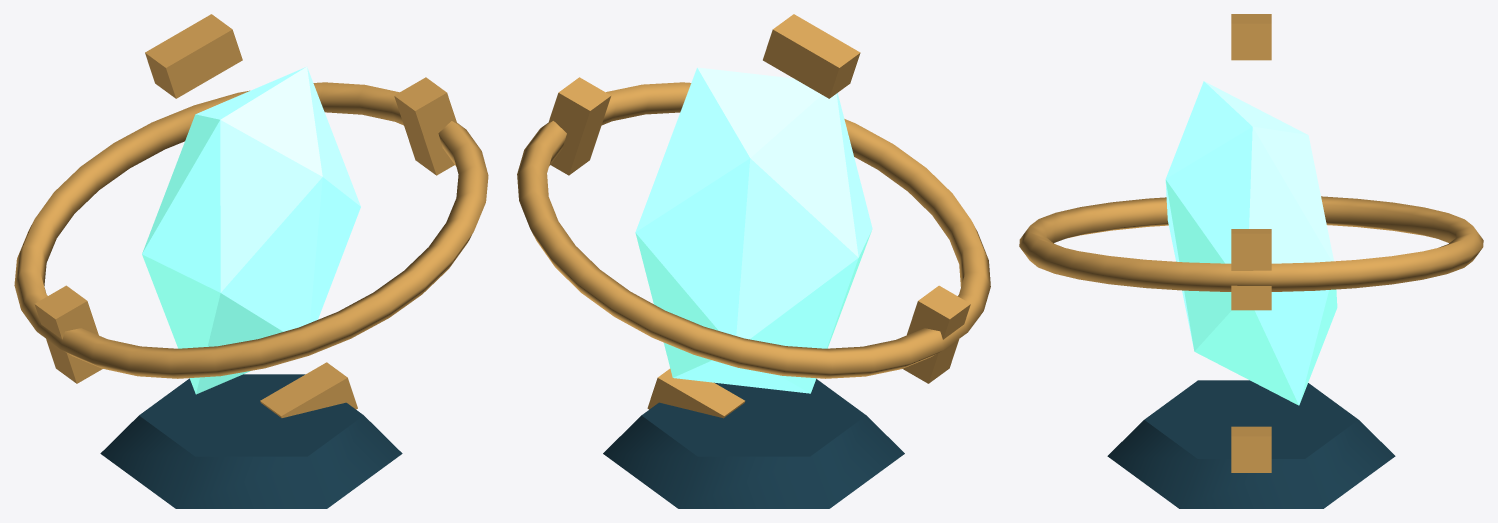
The model's file is relic-02.glb.
The picture shows the model from 3 angles, left to right: view 1: azimuth 30°, elevation 25°; view 2: azimuth 150°, elevation 25°; view 3: azimuth 270°, elevation 25°; orthographic projection. The views are drawn at different scales.
Visible parts, largest first — view 1: aether-glass-merged, aged-brass-merged, deep-basalt-merged; view 2: aether-glass-merged, aged-brass-merged, deep-basalt-merged; view 3: aether-glass-merged, aged-brass-merged, deep-basalt-merged.
Part boxes in pixels (x1=…): aether-glass-merged: x1=142, y1=66, x2=360, y2=394; aged-brass-merged: x1=14, y1=14, x2=488, y2=417; deep-basalt-merged: x1=100, y1=374, x2=402, y2=508; aether-glass-merged: x1=635, y1=67, x2=872, y2=393; aged-brass-merged: x1=517, y1=14, x2=990, y2=418; deep-basalt-merged: x1=603, y1=379, x2=904, y2=508; aether-glass-merged: x1=1165, y1=81, x2=1337, y2=405; aged-brass-merged: x1=1019, y1=14, x2=1483, y2=472; deep-basalt-merged: x1=1107, y1=380, x2=1395, y2=508.
Size of the model in its own units: 1.36 by 1.38 by 1.38.
